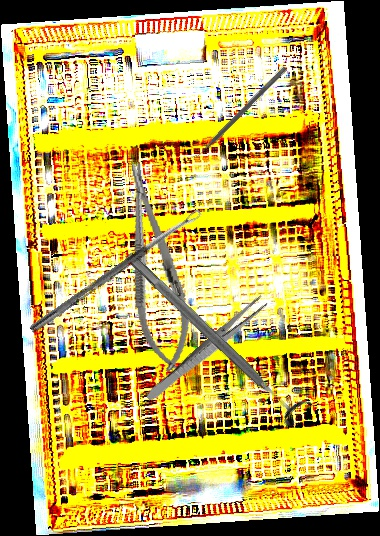Dressing Forceps: (143, 293, 270, 406)
Fixation Ring: (115, 241, 315, 432)
Needle Holder: (110, 158, 200, 375)
Spatula Surgical: (189, 62, 288, 163)
Surgical Spoon: (29, 208, 203, 335)
